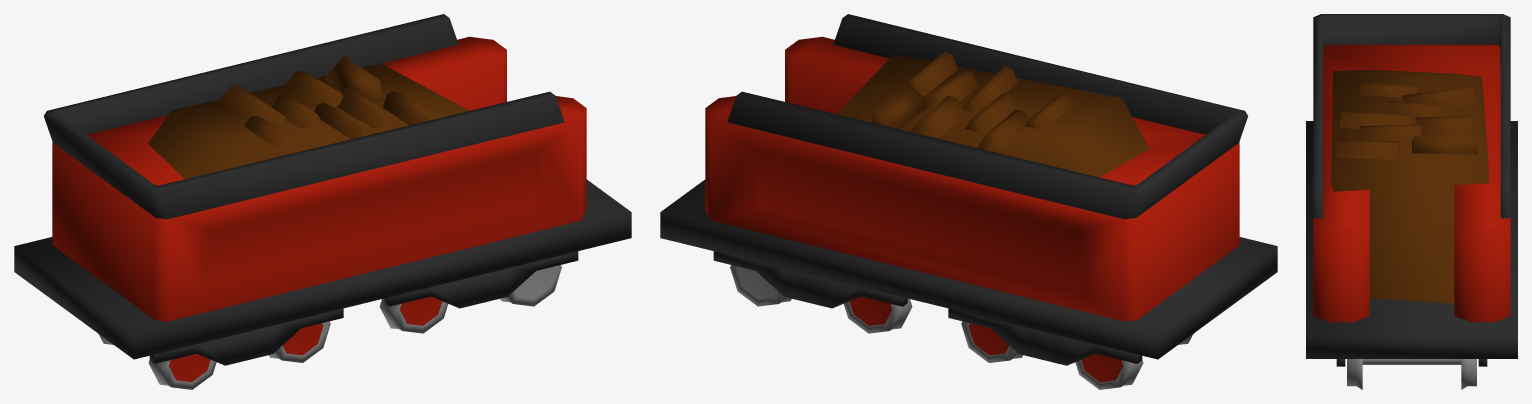
Rendered from Western_Locomotive_Wagon.fbx.
3 views of the same model, side by side, from view 1: azimuth 30°, elevation 25°; view 2: azimuth 150°, elevation 25°; view 3: azimuth 270°, elevation 25° (orthographic). The views are drawn at different scales.
Parts seen in each view (by area): view 1: locomotive-wagon-western-base; view 2: locomotive-wagon-western-base; view 3: locomotive-wagon-western-base.
Boxes of the visible parts, x1,y1,x2,y2 form: locomotive-wagon-western-base: (14,14,631,389); locomotive-wagon-western-base: (660,14,1277,389); locomotive-wagon-western-base: (1306,14,1517,389).
Bounding box in the file's own units: 662 × 294 × 275.
Materials: 1 (1 with a texture image).
